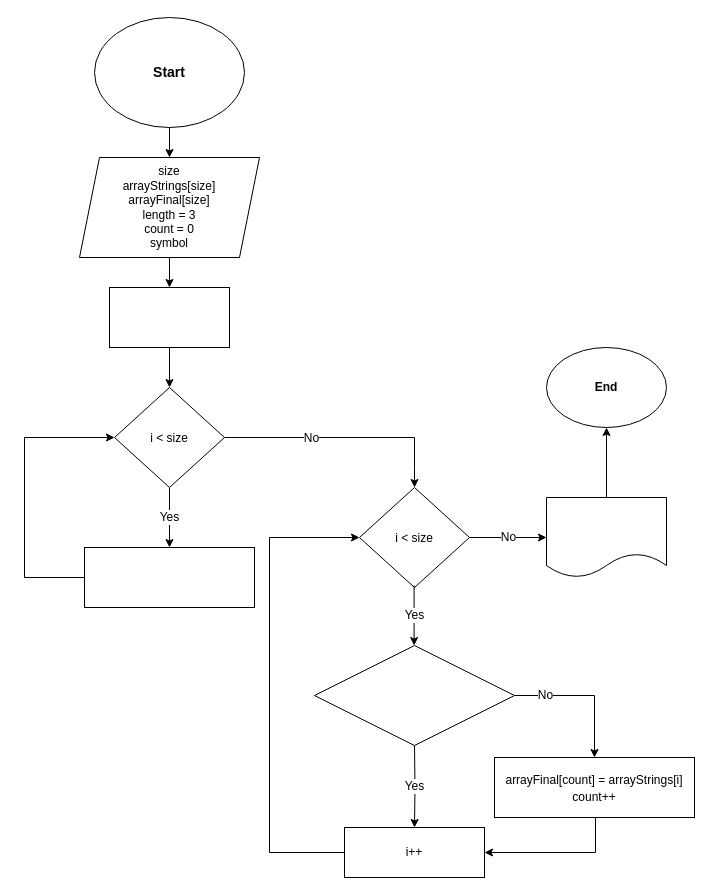
Some shapes in this 712 by 895 pixel diagram are drawn without their labels. The centre of each missing label's shape, as x and y in pixels:
"arrayStrings [i].Lenght <= lenght" belongs at (414,695).
"i = 0" belongs at (169,317).
"symbol = Console.RedLine() arrayStrings [i] = symbol i++" belongs at (169,577).
